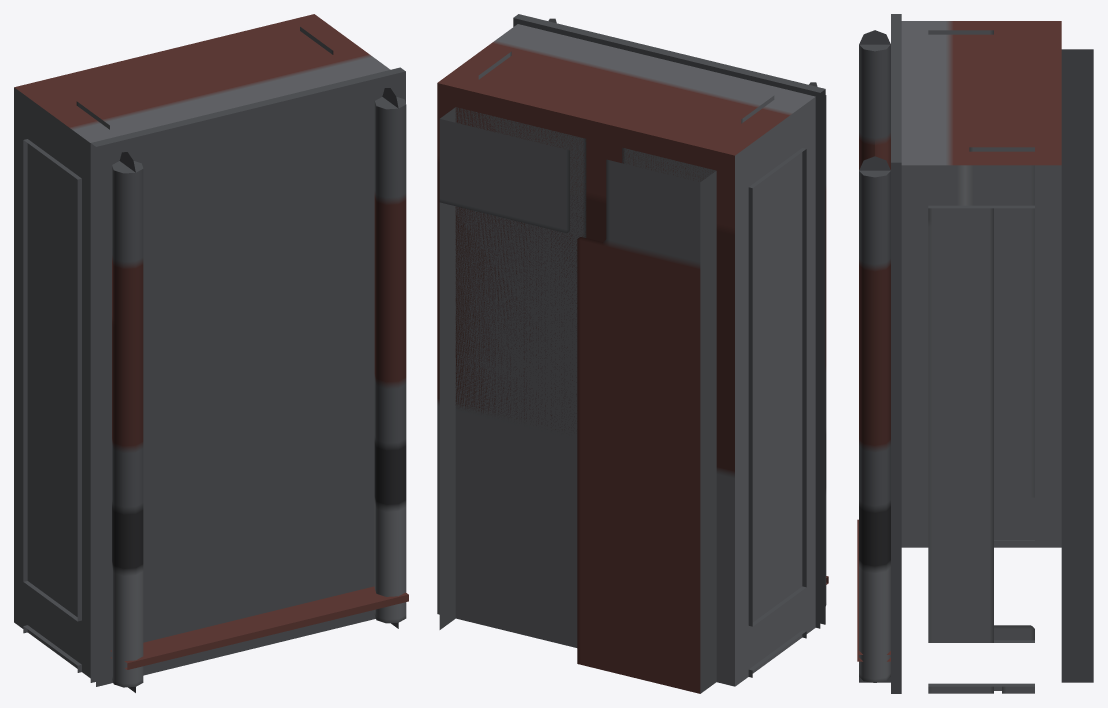
Rendered from section-0.obj.
3 views of the same model, side by side, from view 1: azimuth 30°, elevation 25°; view 2: azimuth 150°, elevation 25°; view 3: azimuth 270°, elevation 25° (orthographic).
Bounding box in the file's own units: 0.66 × 1.1 × 0.443.
